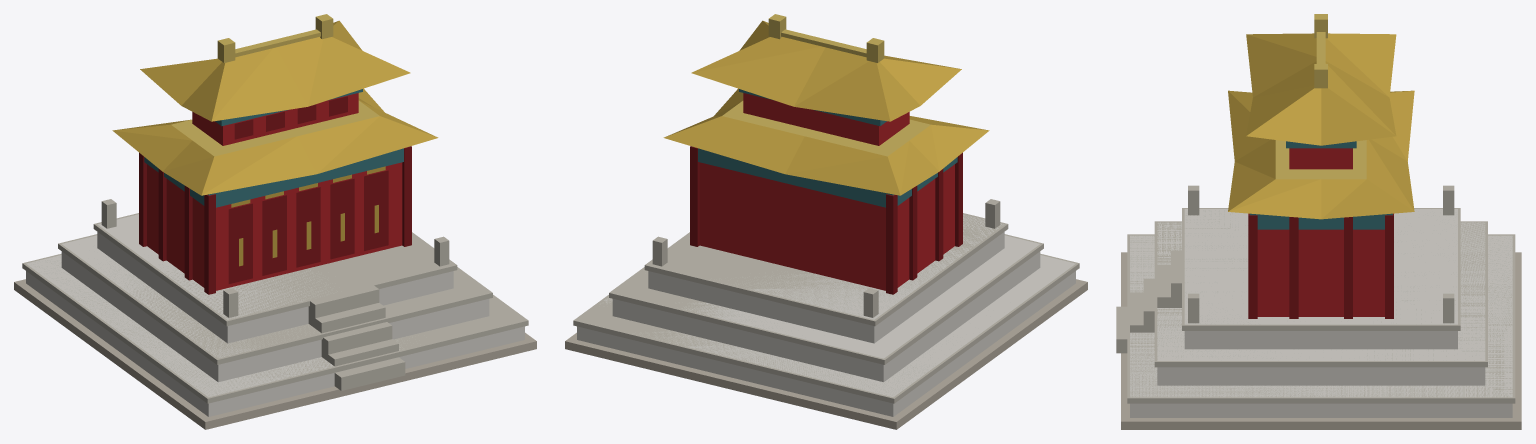
Rendered from citeInterdite.glb.
The picture shows the model from 3 angles, left to right: view 1: azimuth 30°, elevation 25°; view 2: azimuth 150°, elevation 25°; view 3: azimuth 270°, elevation 25°; orthographic projection. The views are drawn at different scales.
Visible parts, largest first — view 1: citeInterdite; view 2: citeInterdite; view 3: citeInterdite.
Part boxes in pixels (x1,y1,x2,y2): citeInterdite: (14,14,536,429); citeInterdite: (565,14,1087,429); citeInterdite: (1116,14,1521,429).
Bounding box in the file's own units: 1.76 × 1.47 × 1.78.
